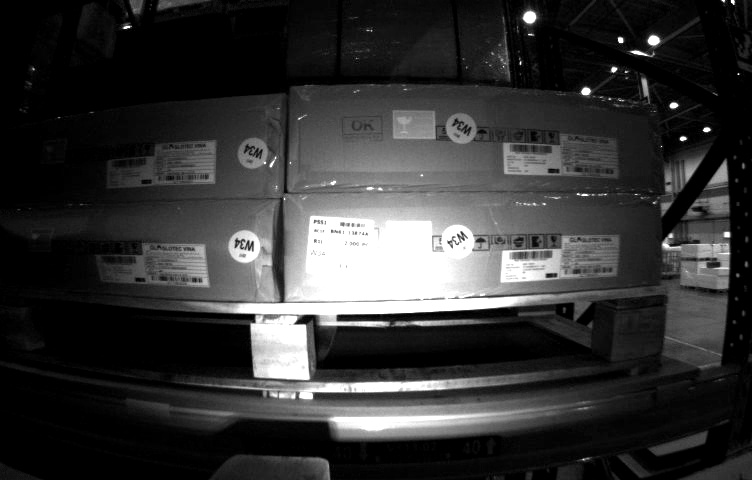True Barcode: (310, 213, 376, 282)
